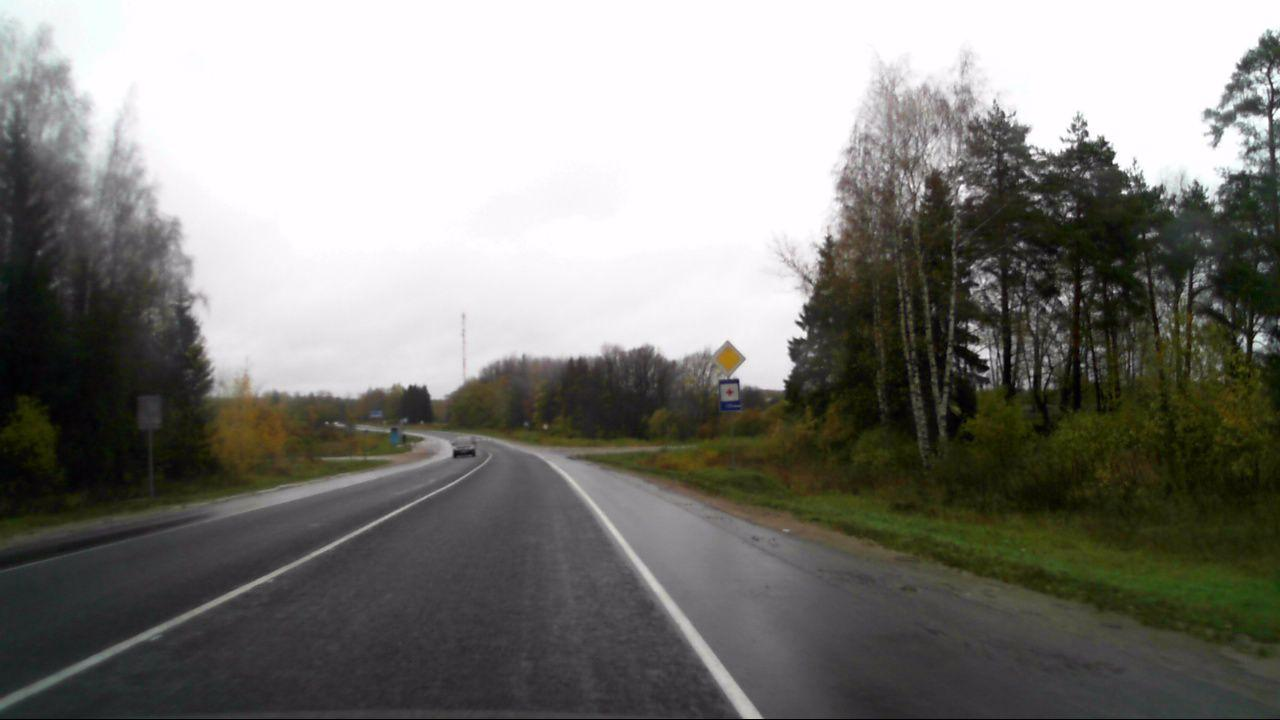2_1: (711, 339, 746, 377)
7_1: (718, 378, 741, 412)
